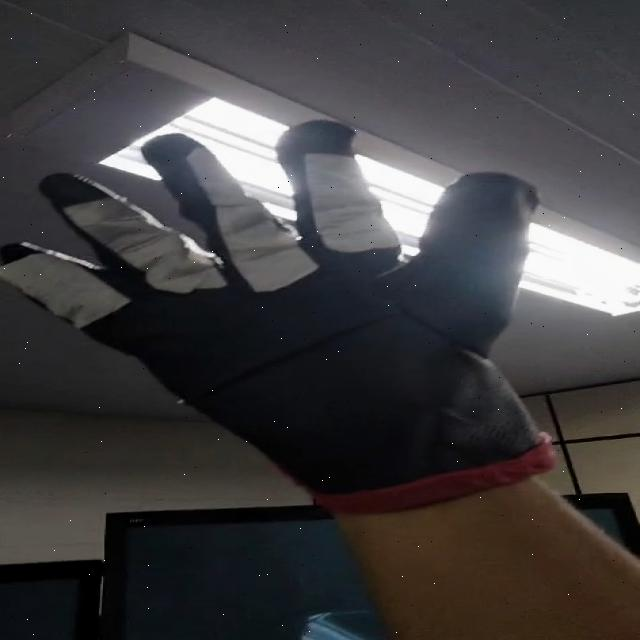Gloves: (0, 120, 551, 509)
